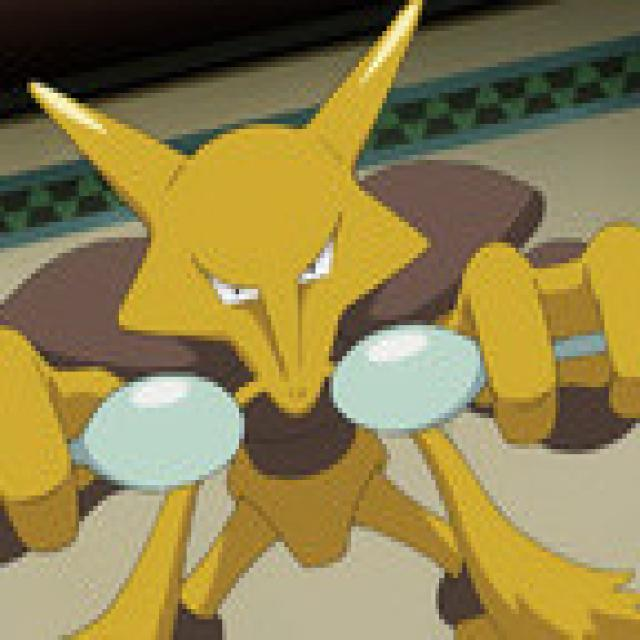Alakazam: (40, 113, 539, 582)
